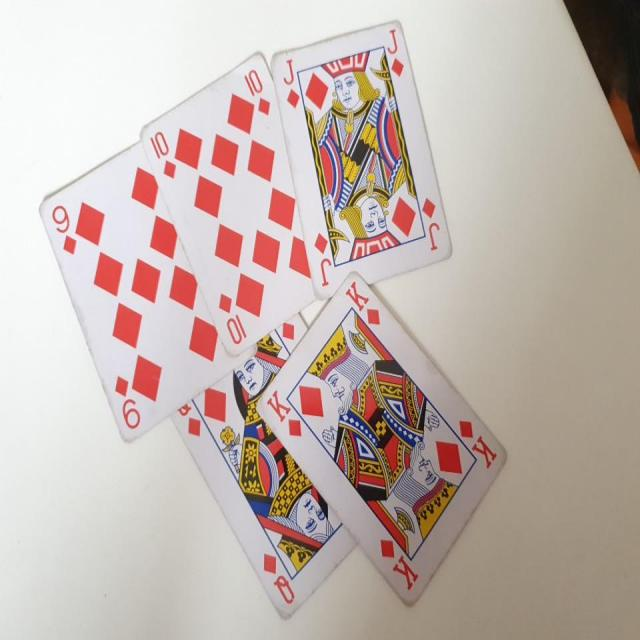10 Diamonds: (140, 50, 326, 357)
9 Diamonds: (37, 140, 256, 442)
J Diamonds: (269, 19, 456, 300)
K Diamonds: (254, 270, 510, 607)
Q Diamonds: (170, 314, 360, 621)
